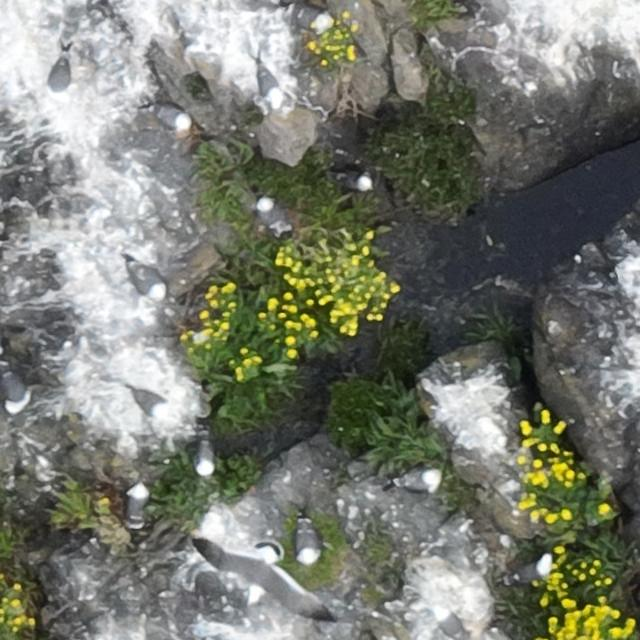F: (199, 540, 325, 620)
umineko: (124, 376, 169, 420), (126, 258, 168, 300), (296, 510, 321, 568), (45, 50, 72, 102), (256, 59, 284, 108), (4, 366, 32, 415), (393, 468, 440, 492), (511, 558, 550, 582), (152, 108, 188, 130), (289, 6, 328, 26), (127, 484, 147, 522), (257, 198, 279, 228), (196, 440, 213, 474), (338, 172, 370, 190)
